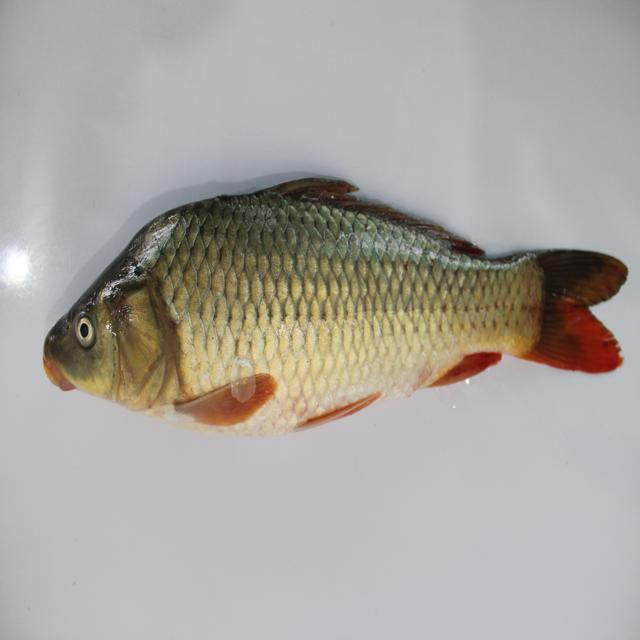CommonCarp: (42, 172, 638, 441)
